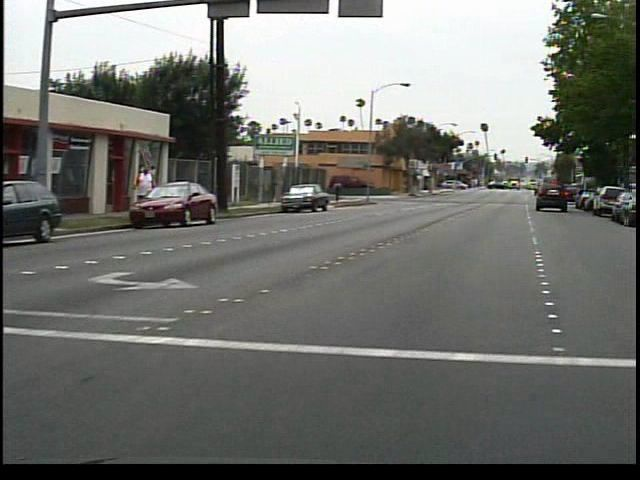person: (136, 158, 164, 221), (336, 175, 350, 204)
